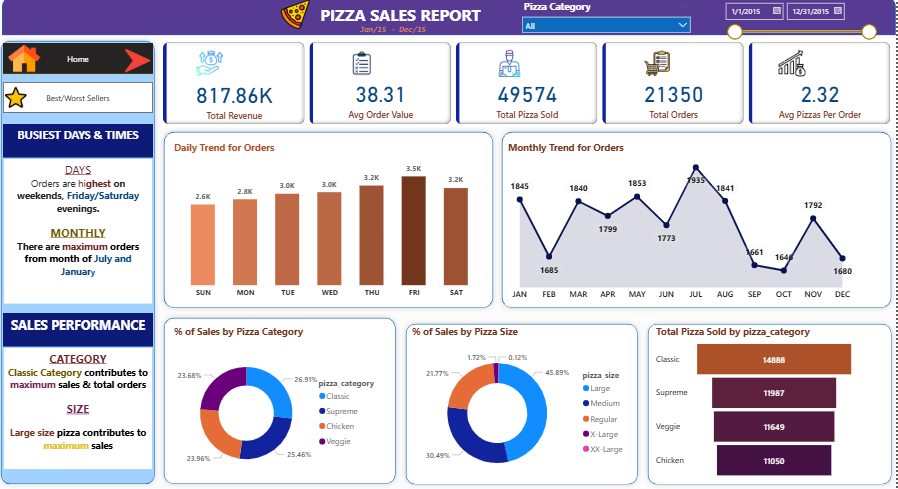

The dashboard page shown, as its layout file describes it:
{"tool":"powerbi","page":{"name":"Home","canvas":[1500,820],"ordinal":0},"visuals":[{"type":"shape","box":[10.6,0,1489.7,63.8],"z":0},{"type":"shape","box":[0,64.5,272.6,754.8],"z":1000},{"type":"cardVisual","fields":{"Data":["pizza_sales.Total Revenue","pizza_sales.Avg Order Value","pizza_sales.Total Pizza Sold","pizza_sales.Total Orders","pizza_sales.Avg Pizzas Per Order"]},"box":[273.3,69.9,1227,147.3],"z":2000},{"type":"textbox","box":[526.2,6.2,295,51.2],"z":3000},{"type":"textbox","box":[601.2,40,175,48.8],"z":4000},{"type":"image","box":[456.2,0,83.8,57.5],"z":5000},{"type":"shape","box":[271.8,217.1,564.9,309.8],"z":6000},{"type":"columnChart","title":"Daily Trend for Orders","fields":{"Category":["pizza_sales.Order Day"],"Y":["pizza_sales.Total Orders"]},"box":[291.6,239.9,530,270.3],"z":7000},{"type":"shape","box":[835.2,217.1,665.1,309.8],"z":8000},{"type":"areaChart","title":"Monthly Trend for Orders","fields":{"Category":["pizza_sales.Order Month"],"Y":["pizza_sales.Total Orders"]},"box":[848.4,240.3,587.1,274.2],"z":9000},{"type":"shape","box":[271.8,526.9,402.4,293.1],"z":10000},{"type":"shape","box":[1078.1,536,422.1,284],"z":11000},{"type":"shape","box":[674.2,536,402.4,284],"z":12000},{"type":"donutChart","title":"% of Sales by Pizza Category","fields":{"Category":["pizza_sales.pizza_category"],"Y":["pizza_sales.Total Revenue"]},"box":[291.9,546.8,359.7,272.6],"z":13000},{"type":"donutChart","title":"% of Sales by Pizza Size","fields":{"Category":["pizza_sales.pizza_size"],"Y":["pizza_sales.Total Revenue"]},"box":[688.7,546.8,374.2,272.6],"z":14000},{"type":"funnel","fields":{"Category":["pizza_sales.pizza_category"],"Y":["pizza_sales.Total Pizza Sold"]},"box":[1095.2,546.8,340.3,261.3],"z":15000},{"type":"textbox","box":[11.3,211.3,250,56.5],"z":16000},{"type":"textbox","box":[11.3,267.7,250,243.5],"z":17000},{"type":"textbox","box":[11.3,527.4,250,56.5],"z":18000},{"type":"textbox","box":[11.3,583.9,250,204.8],"z":19000},{"type":"slicer","fields":{"Values":["pizza_sales.pizza_category"]},"box":[867.1,0,300.7,65.3],"z":20000},{"type":"slicer","fields":{"Values":["pizza_sales.order_date"]},"box":[1202.7,0,273.3,74.4],"z":21000},{"type":"pageNavigator","box":[11.3,77.4,250,51.6],"z":21001},{"type":"pageNavigator","box":[11.3,141.9,250,51.6],"z":21002},{"type":"image","box":[209.6,65.3,51.6,82],"z":21003},{"type":"image","box":[10.6,69.9,74.4,63.8],"z":21004},{"type":"image","box":[10.6,127.6,45.6,79],"z":21005}]}

Visuals, with their boxes in screenshot pixels (x1, y1, x2, y2), scaled from the page's 1500x820 canvas onto the 898x489 screenshot:
shape: x1=6 y1=0 x2=897 y2=38
shape: x1=0 y1=38 x2=163 y2=488
cardVisual - pizza_sales.Total Revenue x pizza_sales.Avg Order Value: x1=164 y1=42 x2=897 y2=130
textbox: x1=315 y1=4 x2=492 y2=34
textbox: x1=360 y1=24 x2=465 y2=53
image: x1=273 y1=0 x2=323 y2=34
shape: x1=163 y1=129 x2=501 y2=314
"Daily Trend for Orders" columnChart: x1=175 y1=143 x2=492 y2=304
shape: x1=500 y1=129 x2=897 y2=314
"Monthly Trend for Orders" areaChart: x1=508 y1=143 x2=859 y2=307
shape: x1=163 y1=314 x2=404 y2=488
shape: x1=645 y1=320 x2=897 y2=488
shape: x1=404 y1=320 x2=645 y2=488
"% of Sales by Pizza Category" donutChart: x1=175 y1=326 x2=390 y2=488
"% of Sales by Pizza Size" donutChart: x1=412 y1=326 x2=636 y2=488
funnel - pizza_sales.pizza_category x pizza_sales.Total Pizza Sold: x1=656 y1=326 x2=859 y2=482
textbox: x1=7 y1=126 x2=156 y2=160
textbox: x1=7 y1=160 x2=156 y2=305
textbox: x1=7 y1=315 x2=156 y2=348
textbox: x1=7 y1=348 x2=156 y2=470
slicer - pizza_sales.pizza_category: x1=519 y1=0 x2=699 y2=39
slicer - pizza_sales.order_date: x1=720 y1=0 x2=884 y2=44
pageNavigator: x1=7 y1=46 x2=156 y2=77
pageNavigator: x1=7 y1=85 x2=156 y2=115
image: x1=125 y1=39 x2=156 y2=88
image: x1=6 y1=42 x2=51 y2=80
image: x1=6 y1=76 x2=34 y2=123
